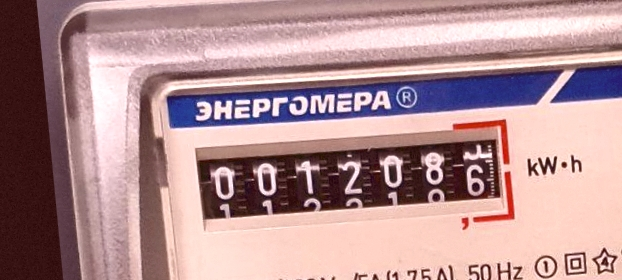0: (209, 160, 238, 201), (253, 158, 280, 197), (378, 150, 405, 188)
1: (295, 155, 319, 196)
2: (337, 156, 367, 196)
6: (461, 159, 487, 197)
8: (419, 147, 447, 186)
screen: (187, 109, 525, 254)
